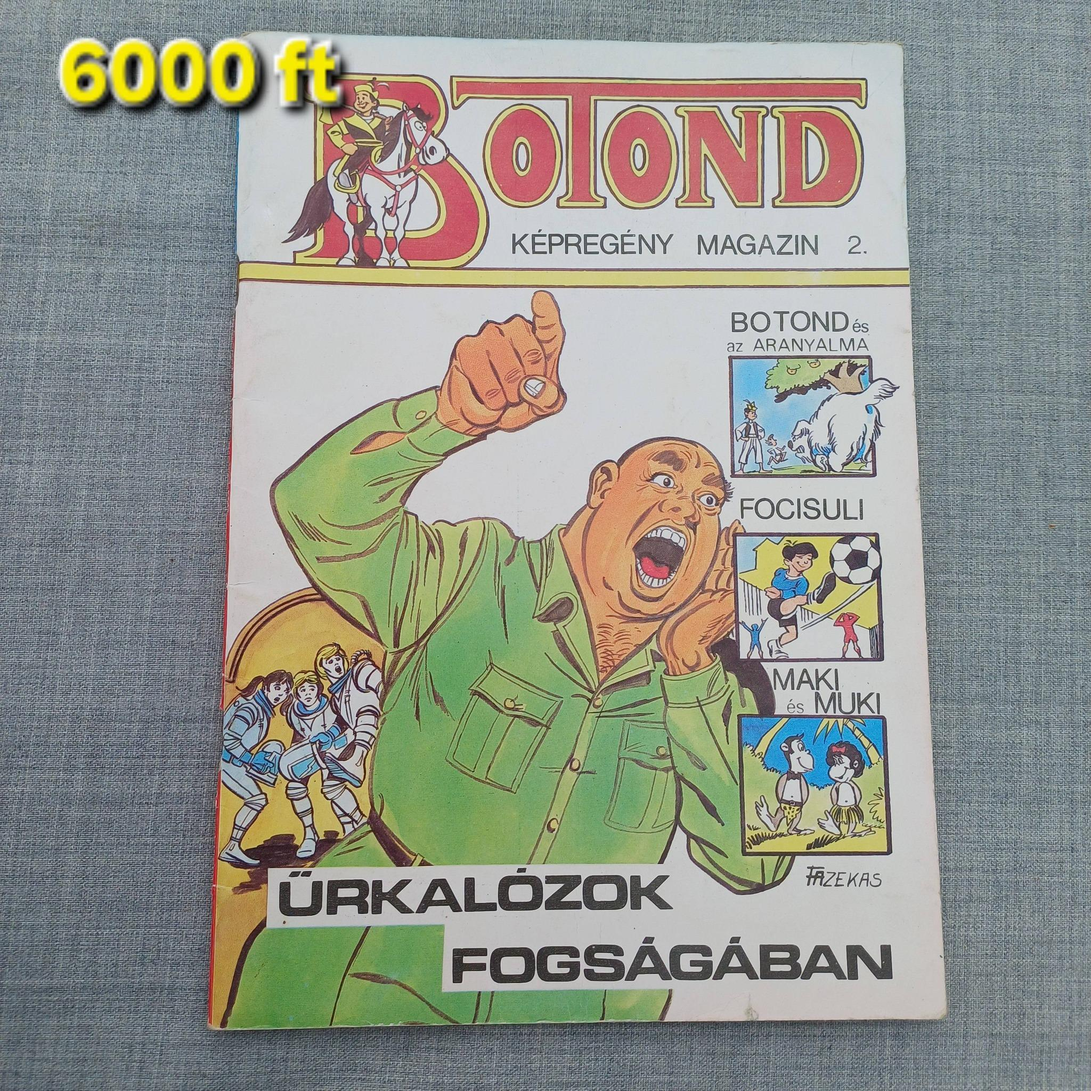comic: (196, 29, 944, 1028)
